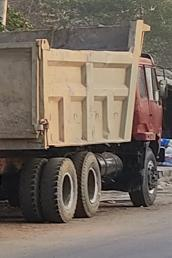Truck: (4, 32, 170, 234)
